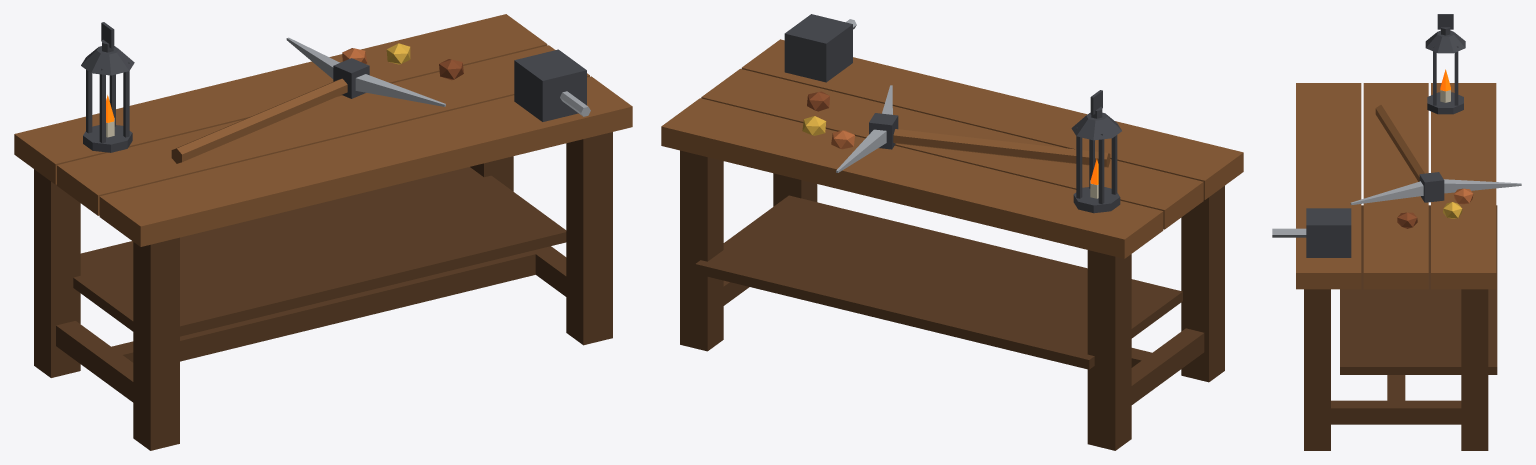
The model's file is mine_workbench.glb.
3 views of the same model, side by side, from view 1: azimuth 30°, elevation 25°; view 2: azimuth 150°, elevation 25°; view 3: azimuth 270°, elevation 25° (orthographic). The views are drawn at different scales.
Parts seen in each view (by area): view 1: mine_workbench; view 2: mine_workbench; view 3: mine_workbench.
Boxes of the visible parts, x1,y1,x2,y2 form: mine_workbench: (14, 14, 632, 450); mine_workbench: (661, 14, 1243, 450); mine_workbench: (1272, 14, 1521, 450).
Size of what is drawn, in the model's own units: 2 by 1.35 by 1.11.
